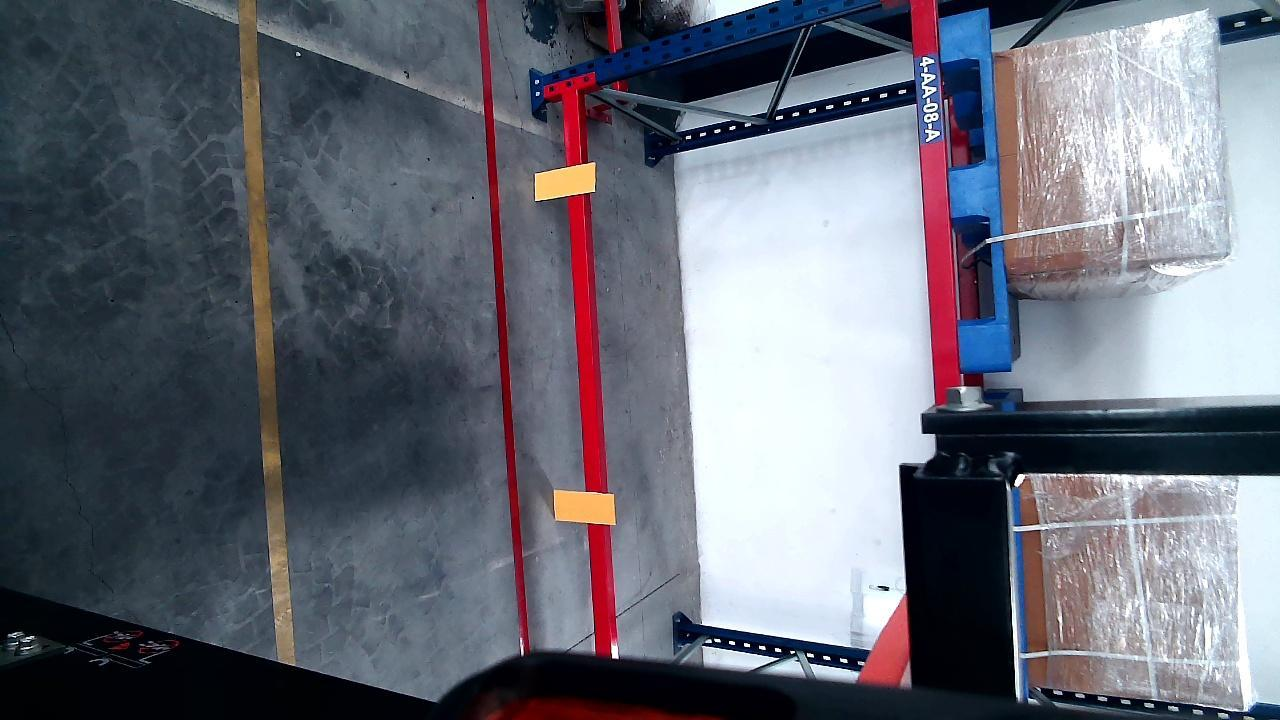red_line: (476, 1, 532, 651)
